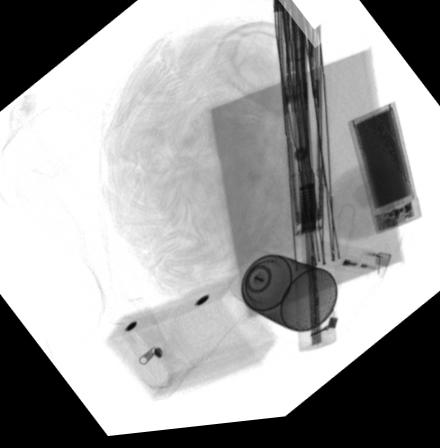Lighter: (304, 242, 392, 290)
Powerbank: (347, 109, 422, 240)
Sprayer: (228, 255, 339, 339)
